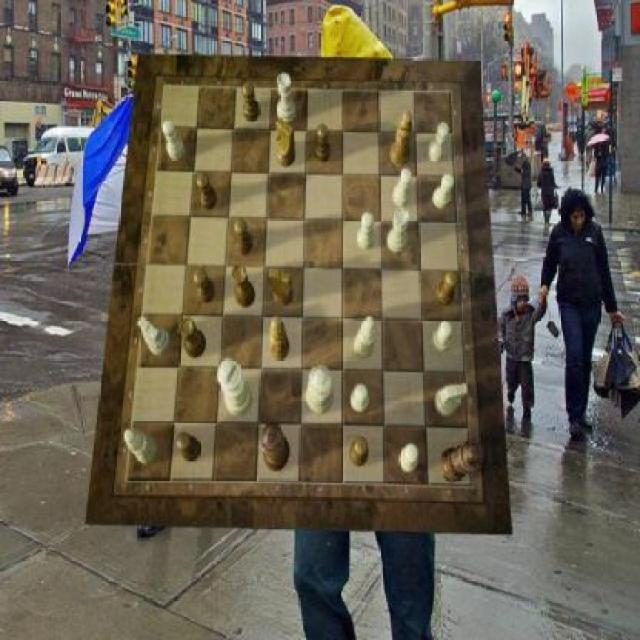bishop: (391, 111, 414, 165), (269, 315, 290, 361)
black-bishop: (440, 442, 485, 483)
black-king: (277, 117, 297, 168), (269, 268, 294, 305)
black-knight: (435, 270, 458, 306), (197, 172, 217, 210), (194, 268, 216, 302), (234, 219, 253, 256), (177, 434, 201, 463), (242, 83, 259, 123), (314, 125, 331, 163), (351, 437, 368, 466)
black-pawn: (260, 422, 290, 472)
black-queen: (178, 317, 206, 358), (232, 264, 256, 308)
black-rook: (125, 430, 158, 466), (354, 315, 376, 358)
white-bishop: (217, 357, 252, 415)
white-king: (138, 317, 172, 357), (436, 383, 468, 417)
white-knight: (163, 120, 186, 160), (432, 174, 455, 208), (428, 123, 448, 162), (394, 168, 414, 206), (357, 212, 375, 250), (432, 320, 452, 354), (400, 445, 420, 472), (351, 385, 368, 412)
white-pawn: (304, 364, 334, 416)
white-queen: (388, 208, 410, 253), (277, 74, 296, 123)
